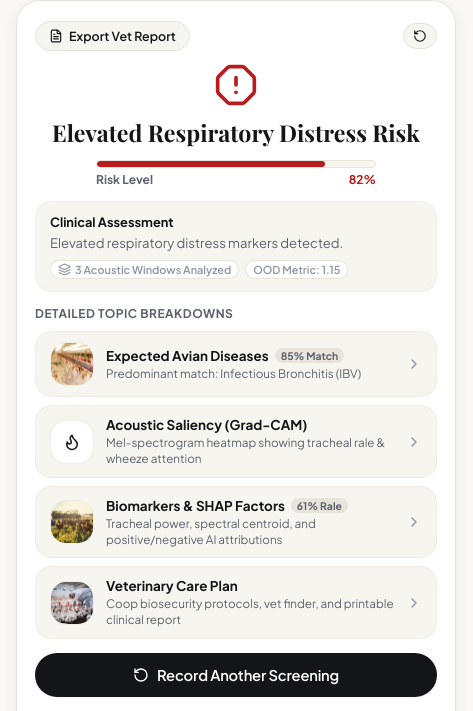
Test case: ResultScreen Topic-Based Multi-Page Component › navigates to Biomarkers & SHAP topic page
Click the text "Biomarkers & SHAP Factors" at x=195, y=505, box [106,497,285,514]
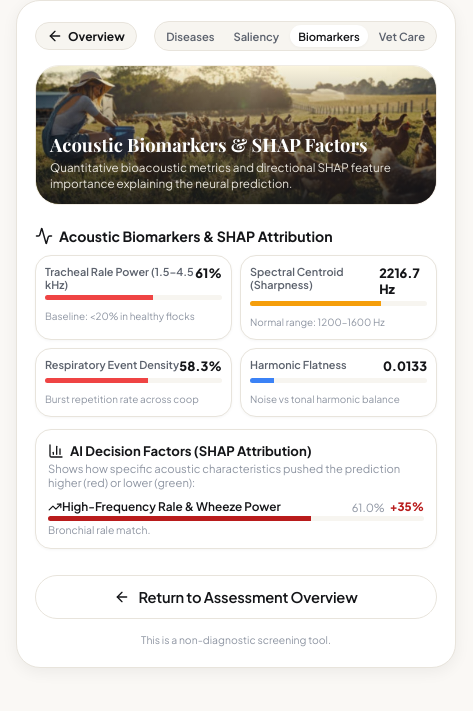
Now the heading "Acoustic Biomarkers & SHAP Factors" is shown, box [50,132,422,158]
Now the heading "Acoustic Biomarkers & SHAP Attribution" is shown, box [59,227,332,245]
